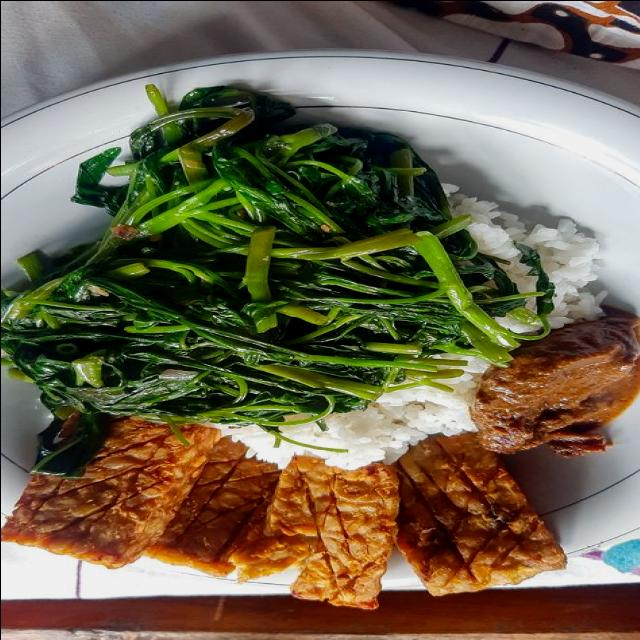tempe goreng: (0, 413, 209, 569), (394, 429, 566, 594), (225, 454, 400, 608)
tumis kangkung: (0, 87, 541, 429)
